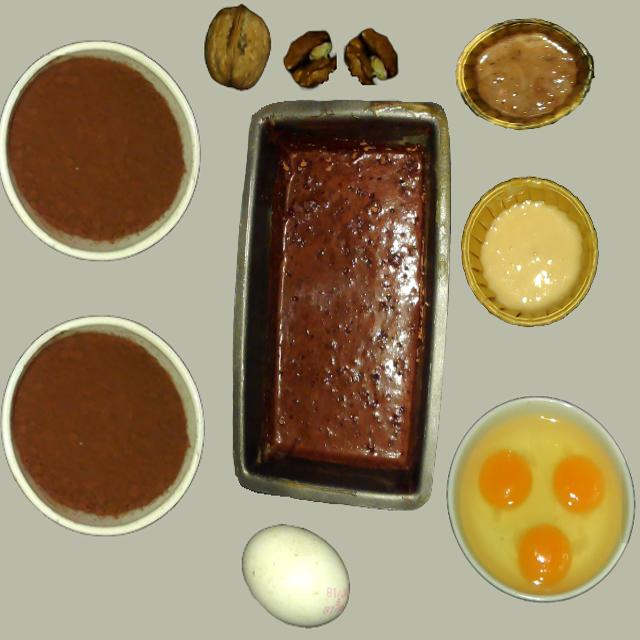Cocoa: (12, 330, 192, 524), (8, 55, 186, 246)
Egg: (517, 524, 572, 586), (478, 450, 532, 509), (552, 456, 605, 513)
Walnut: (205, 5, 271, 90)
